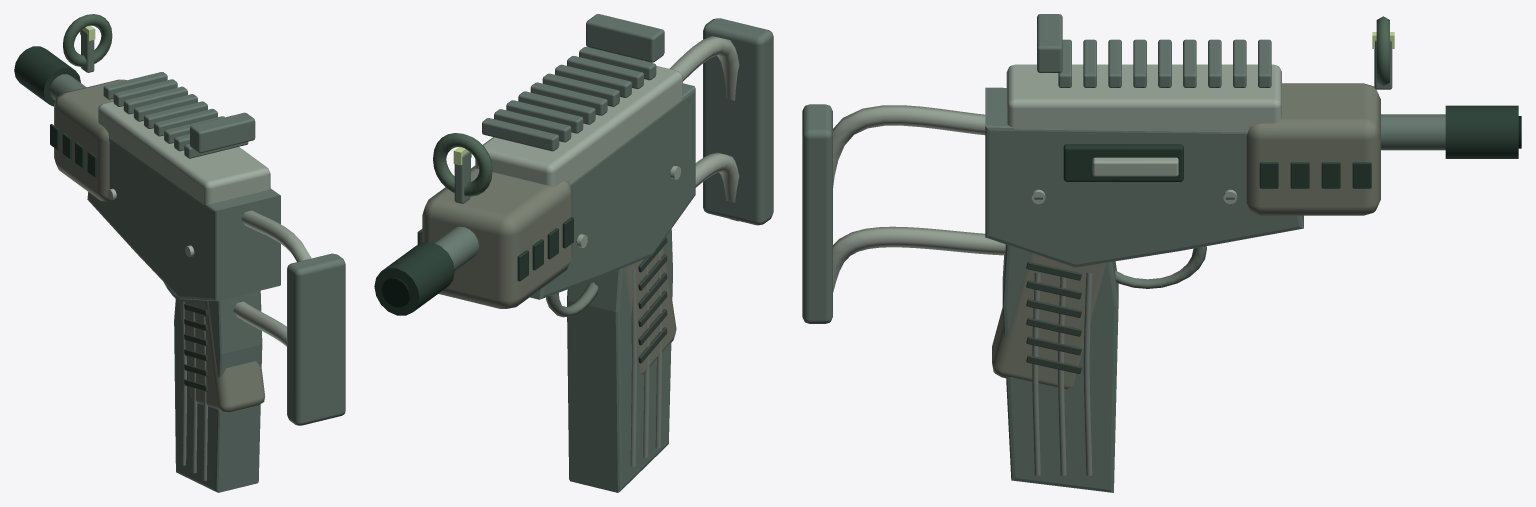
File: mac10.glb
3 renders of one model, left to right at view 1: azimuth 30°, elevation 25°; view 2: azimuth 150°, elevation 25°; view 3: azimuth 270°, elevation 25°, orthographic. The views are drawn at different scales.
Parts seen in each view (by area): view 1: mac10, magazine; view 2: mac10, magazine; view 3: mac10, magazine, bolt.
Boxes of the visible parts, x1,y1,x2,y2 form: mac10: (14,14,345,425); magazine: (174,290,262,492); mac10: (374,14,773,374); magazine: (567,229,672,492); mac10: (802,14,1521,389); magazine: (1002,244,1118,492); bolt: (1063,144,1183,181).
Size of the model in its own units: 0.1485 by 0.5924 by 0.837.
